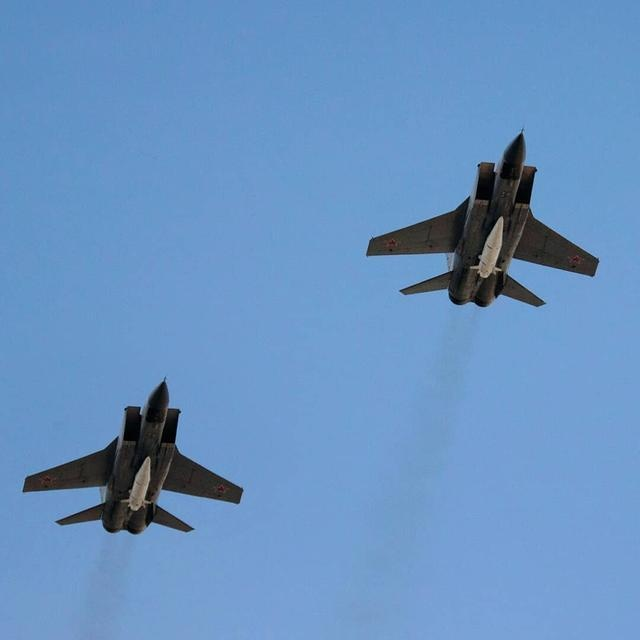airplane: (353, 122, 601, 310), (10, 375, 247, 541)
